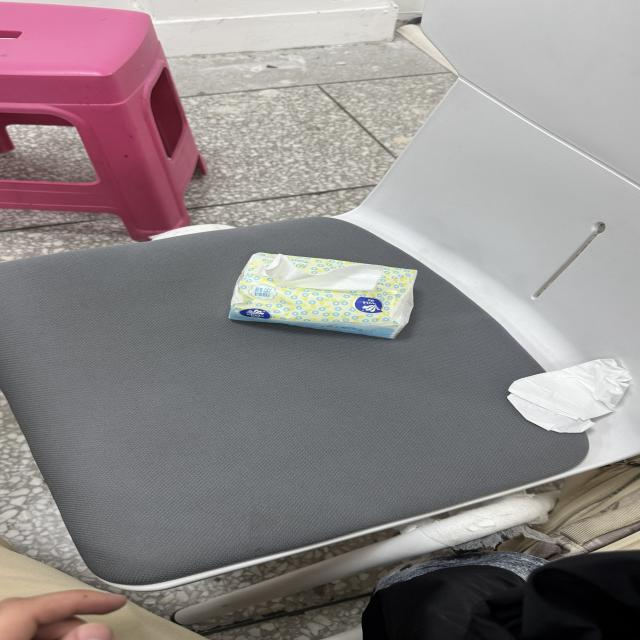tissue: (230, 253, 416, 338), (508, 359, 632, 432), (257, 255, 384, 290), (508, 394, 593, 432)
